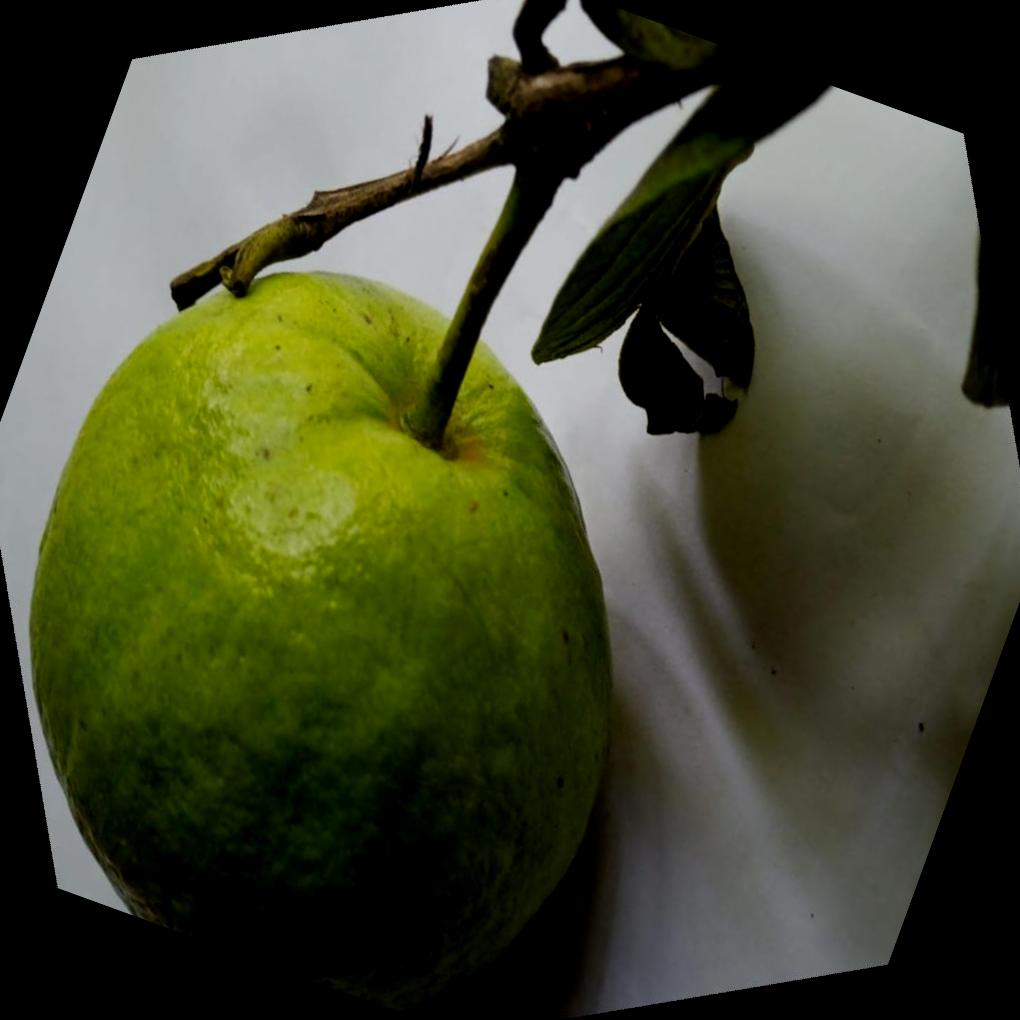FreshGuava: (28, 176, 617, 1017)
